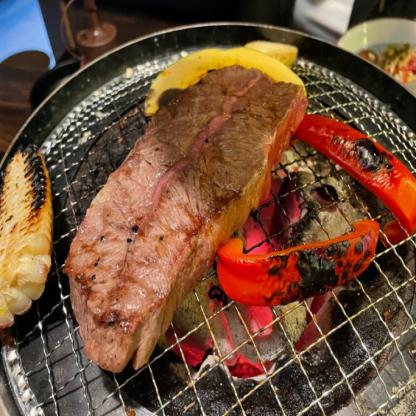Carne: (61, 60, 318, 360)
